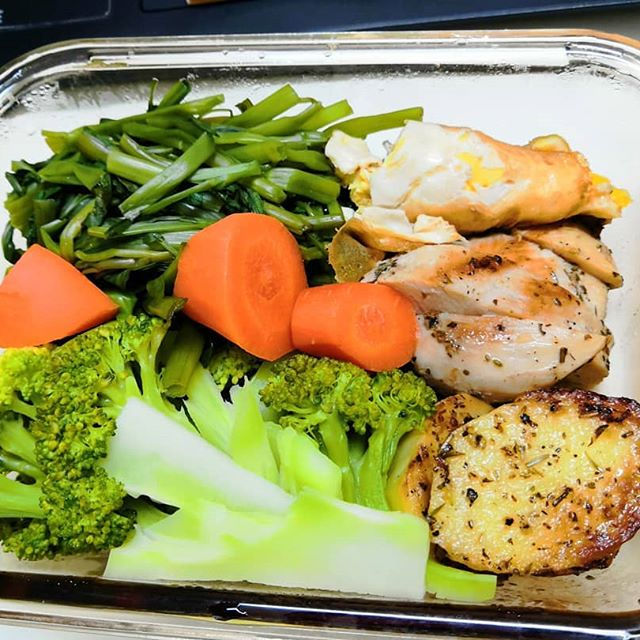water_spinach: (10, 97, 362, 257)
